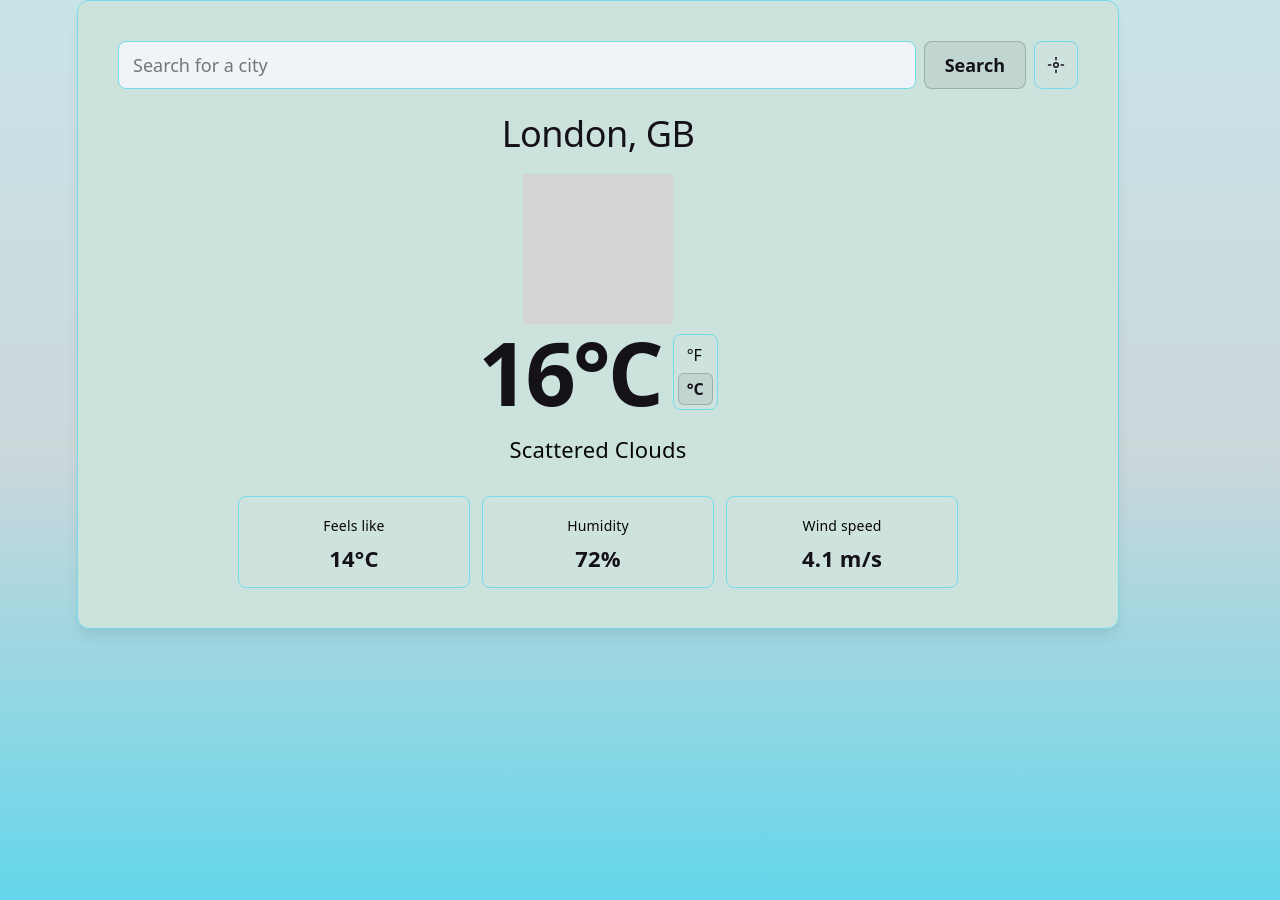
WeatherCard screens › converts to Fahrenheit when the unit button is clicked
This screenshot has width=1280, height=900.
Click the button named "Switch temperature unit". click: [695, 372]
box: top-left (673, 334), bottom-right (718, 410)
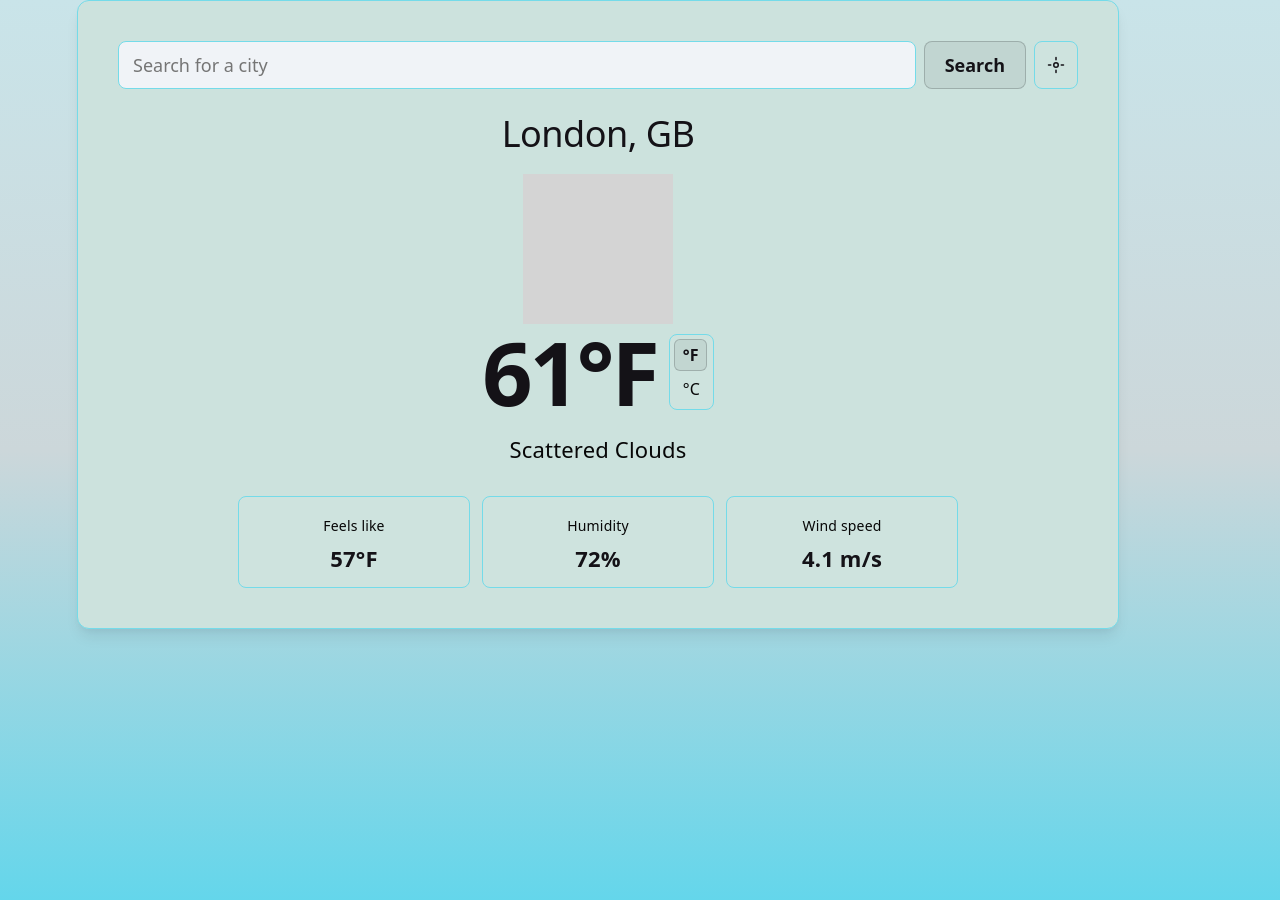
Now the text "61°F" is shown, box top-left (482, 359), bottom-right (657, 385)
Now the text "57°F" is shown, box top-left (330, 543), bottom-right (378, 573)
